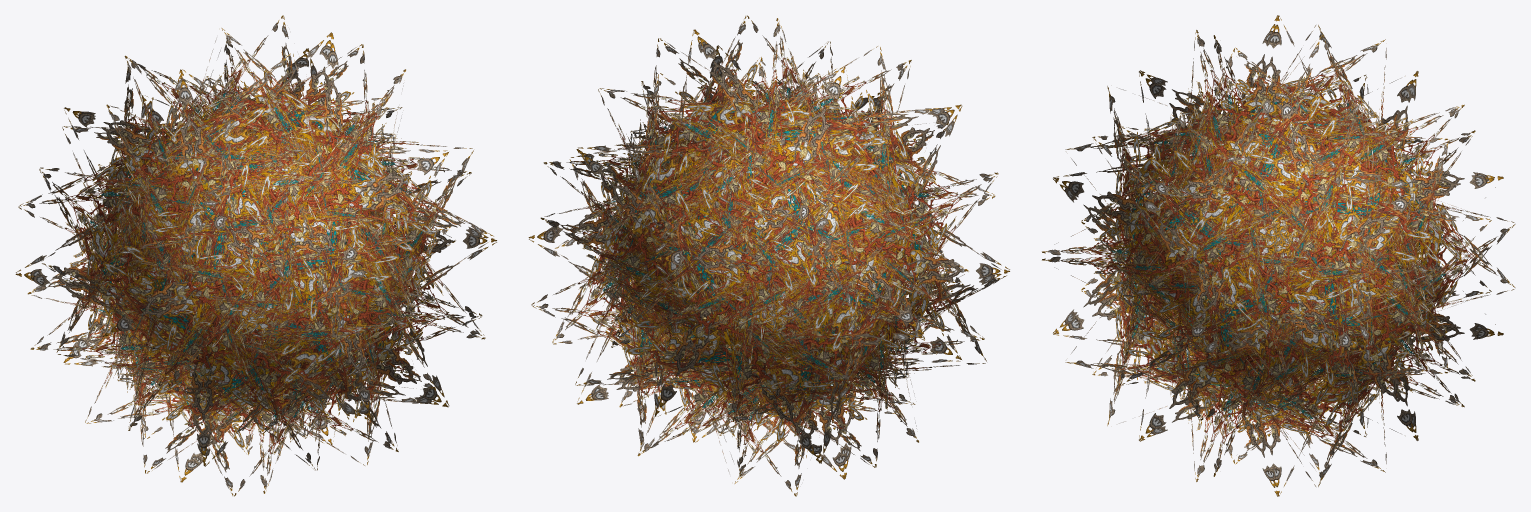
The model's file is 3GreatInvertedPentagonalHexecontahedron.gltf.
3 views of the same model, side by side, from view 1: azimuth 30°, elevation 25°; view 2: azimuth 150°, elevation 25°; view 3: azimuth 270°, elevation 25° (orthographic).
Parts seen in each view (by area): view 1: GreatInvertedPentagonalHexecontahedron8; view 2: GreatInvertedPentagonalHexecontahedron8; view 3: GreatInvertedPentagonalHexecontahedron8.
Part boxes in pixels (<box>): GreatInvertedPentagonalHexecontahedron8: <box>15,15,496,496</box>; GreatInvertedPentagonalHexecontahedron8: <box>528,15,1009,496</box>; GreatInvertedPentagonalHexecontahedron8: <box>1042,15,1515,496</box>.
Size of the model in its own units: 1.13 by 1.13 by 1.13.
1 material, 1 textured.
